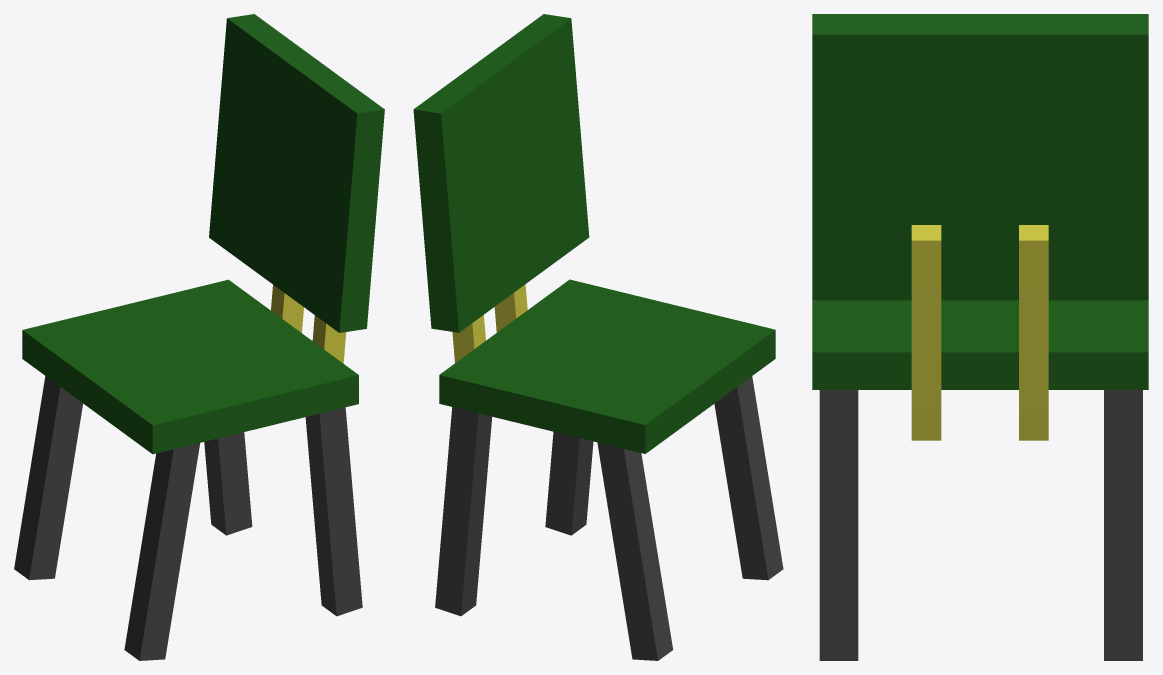
The model's file is kitchenChair.FBX.
3 renders of one model, left to right at view 1: azimuth 30°, elevation 25°; view 2: azimuth 150°, elevation 25°; view 3: azimuth 270°, elevation 25°, orthographic. The views are drawn at different scales.
Parts seen in each view (by area): view 1: KitchenChair_Back, KitchenChair_Seat, KitchenChair_Leg4, KitchenChair_Leg3, KitchenChair_Leg1, KitchenChair_Leg2, KitchenChair_Support1, KitchenChair_Support2; view 2: KitchenChair_Back, KitchenChair_Seat, KitchenChair_Leg1, KitchenChair_Leg2, KitchenChair_Leg4, KitchenChair_Leg3, KitchenChair_Support2, KitchenChair_Support1; view 3: KitchenChair_Back, KitchenChair_Seat, KitchenChair_Leg3, KitchenChair_Leg2, KitchenChair_Support1, KitchenChair_Support2.
Boxes of the visible parts, bbox=[...] form: KitchenChair_Back: bbox=[209, 14, 384, 332]; KitchenChair_Seat: bbox=[22, 279, 358, 454]; KitchenChair_Leg4: bbox=[124, 443, 200, 660]; KitchenChair_Leg3: bbox=[305, 407, 362, 616]; KitchenChair_Leg1: bbox=[14, 376, 83, 580]; KitchenChair_Leg2: bbox=[204, 432, 252, 535]; KitchenChair_Support1: bbox=[312, 315, 346, 363]; KitchenChair_Support2: bbox=[271, 285, 303, 332]; KitchenChair_Back: bbox=[413, 14, 589, 332]; KitchenChair_Seat: bbox=[439, 279, 775, 453]; KitchenChair_Leg1: bbox=[597, 442, 672, 660]; KitchenChair_Leg2: bbox=[435, 407, 492, 616]; KitchenChair_Leg4: bbox=[714, 376, 783, 580]; KitchenChair_Leg3: bbox=[545, 431, 593, 535]; KitchenChair_Support2: bbox=[452, 315, 485, 362]; KitchenChair_Support1: bbox=[494, 284, 527, 332]; KitchenChair_Back: bbox=[812, 14, 1148, 300]; KitchenChair_Seat: bbox=[812, 300, 1148, 389]; KitchenChair_Leg3: bbox=[819, 390, 858, 660]; KitchenChair_Leg2: bbox=[1104, 390, 1142, 660]; KitchenChair_Support1: bbox=[911, 225, 941, 440]; KitchenChair_Support2: bbox=[1019, 225, 1048, 440].
Bounding box in the file's own units: 69.31 × 133 × 62.54.
